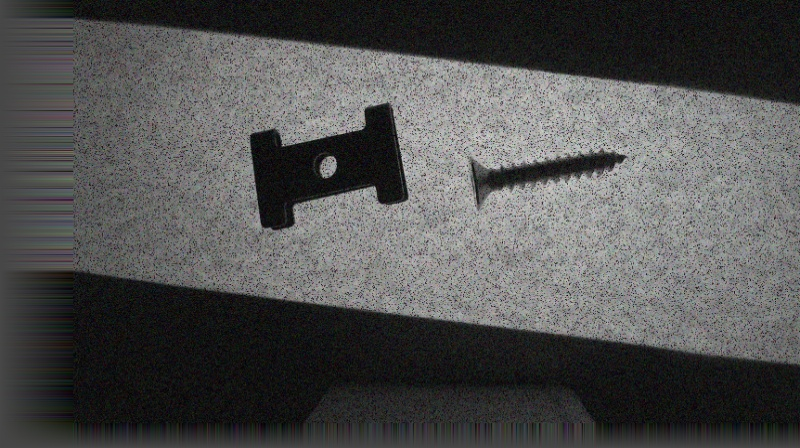O002: (249, 101, 406, 231)
S001: (464, 147, 626, 208)
